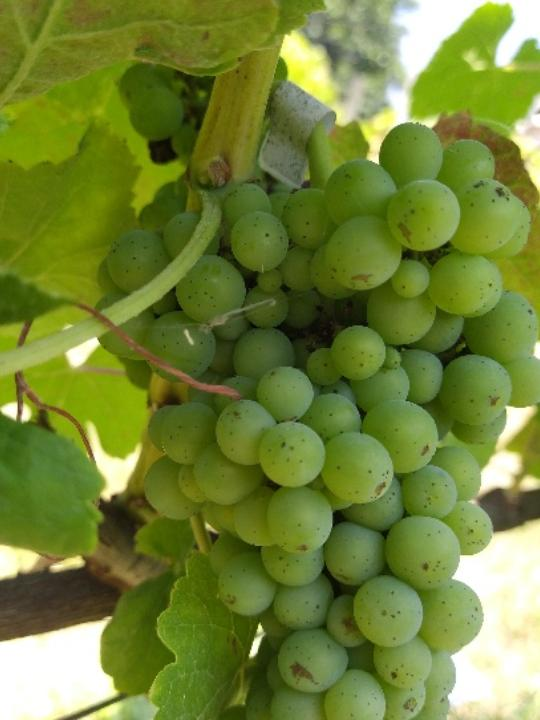grape: (87, 120, 540, 720)
